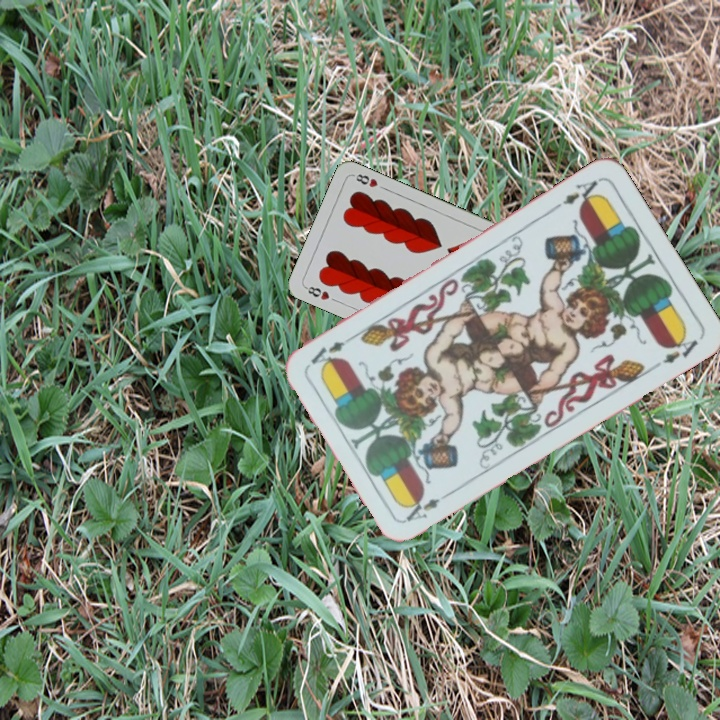EA: (549, 176, 603, 213), (401, 494, 442, 524)
H8: (301, 282, 332, 303)
